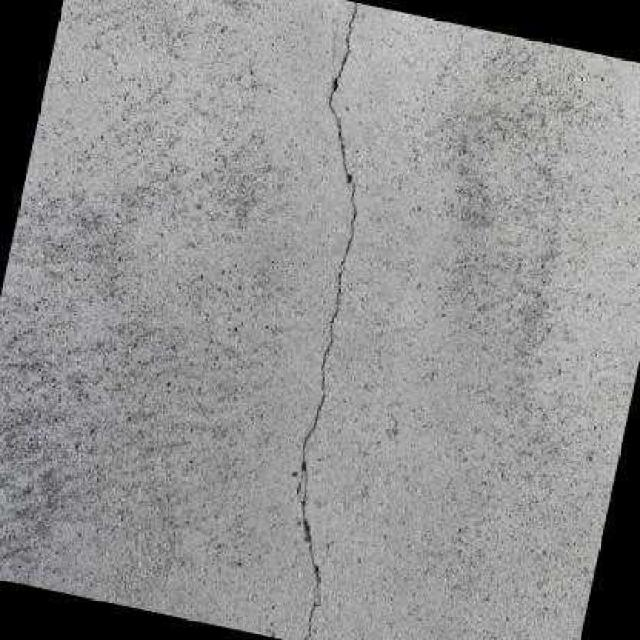D00: (299, 0, 356, 640)
